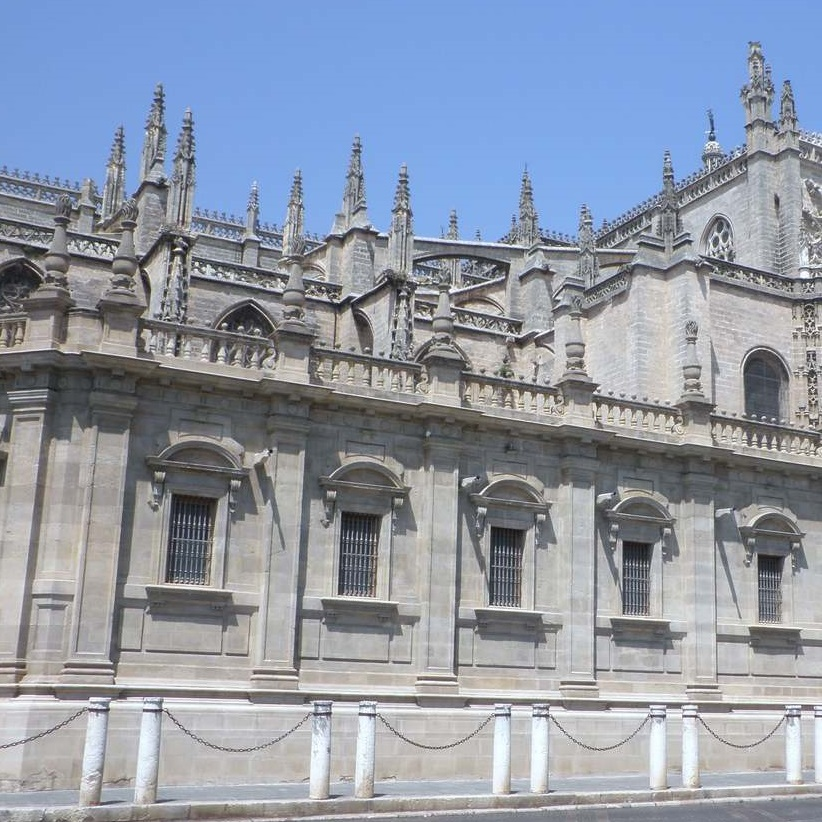fronton-curvo: (151, 437, 246, 475), (326, 457, 408, 497), (478, 476, 550, 511), (612, 494, 676, 527), (748, 510, 803, 541)
pinaculo-gotico: (140, 79, 169, 161), (171, 100, 200, 170), (390, 160, 415, 219), (103, 117, 131, 169), (343, 128, 368, 183), (517, 161, 538, 217), (285, 165, 307, 212), (659, 145, 677, 195), (244, 175, 263, 214), (445, 206, 460, 242), (577, 201, 595, 229)
vano-adintelado: (162, 487, 226, 589), (331, 502, 391, 599), (485, 520, 536, 611), (615, 530, 660, 621), (754, 550, 789, 625)
